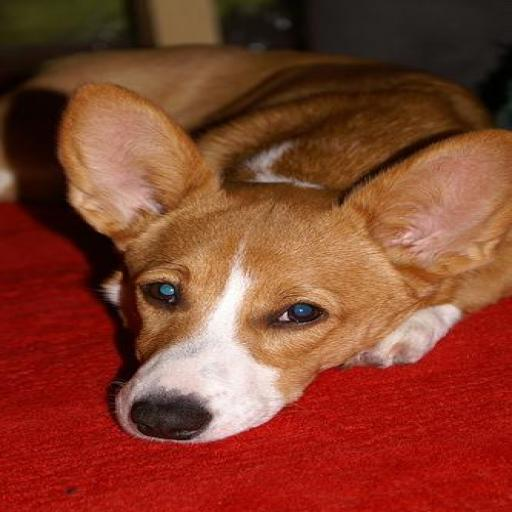dog_face: (64, 97, 510, 451)
